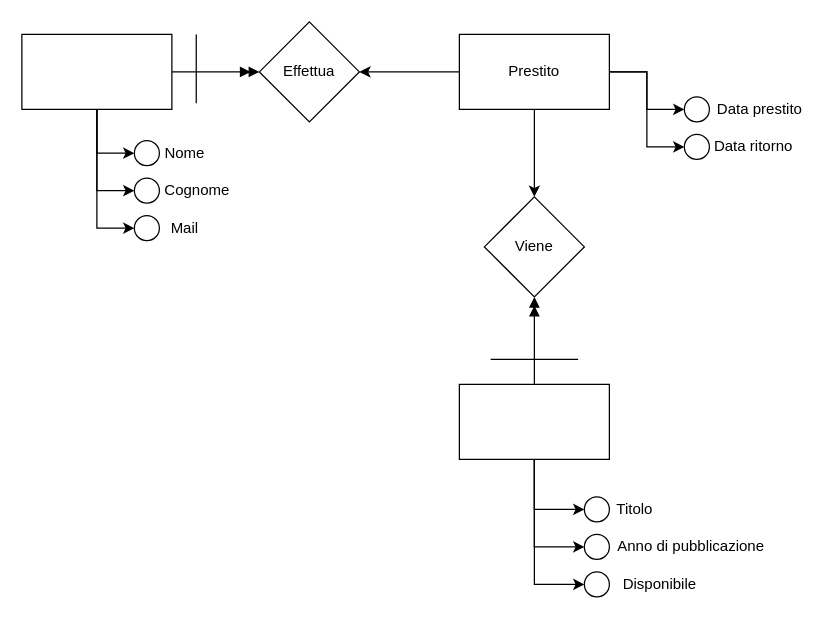
Image size: 838x625. Some labels were removed from this diagram. The box of each missing label's shape, as (x1, y1, x2, y2) in pixels:
Libro: (458, 383, 609, 459)
Utente: (21, 33, 172, 109)
